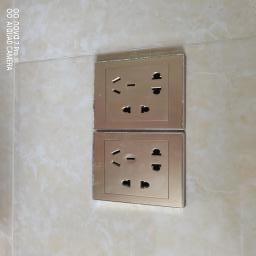outlet: (88, 132, 188, 213), (91, 52, 188, 130)
